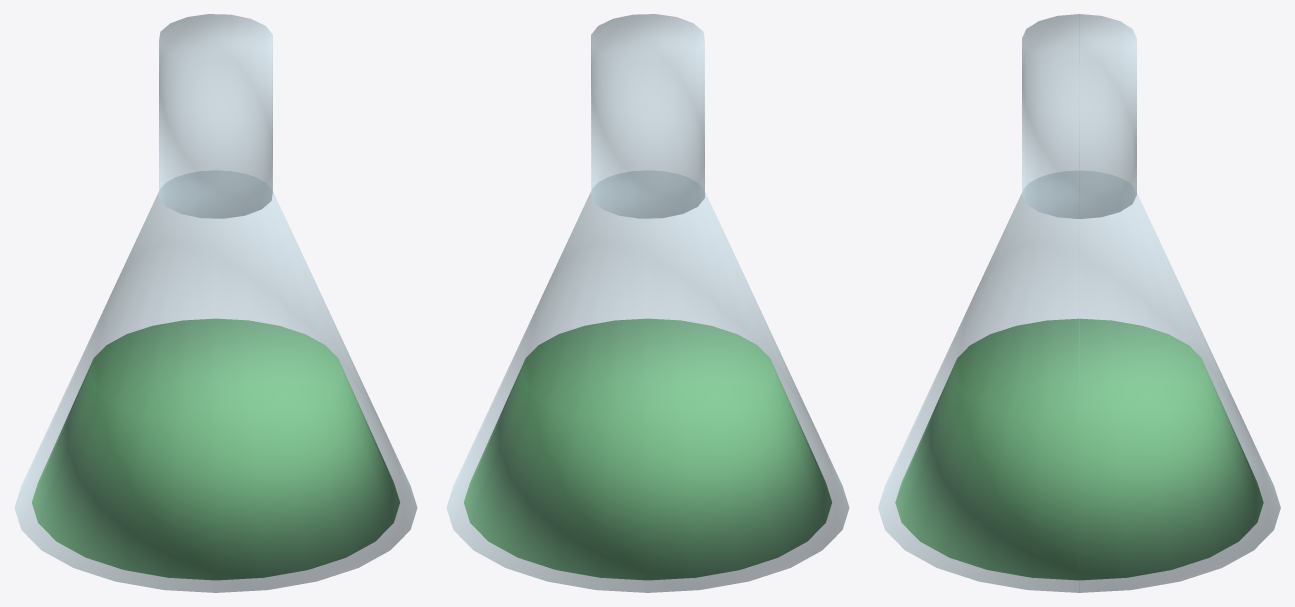
File: flask.glb
3 views of the same model, side by side, from view 1: azimuth 30°, elevation 25°; view 2: azimuth 150°, elevation 25°; view 3: azimuth 270°, elevation 25° (orthographic).
Parts seen in each view (by area): view 1: flask; view 2: flask; view 3: flask.
Part boxes in pixels (x1=…): flask: x1=14, y1=14, x2=417, y2=592; flask: x1=446, y1=14, x2=849, y2=592; flask: x1=878, y1=14, x2=1280, y2=592.
Bounding box in the file's own units: 0.14 × 0.18 × 0.14.
